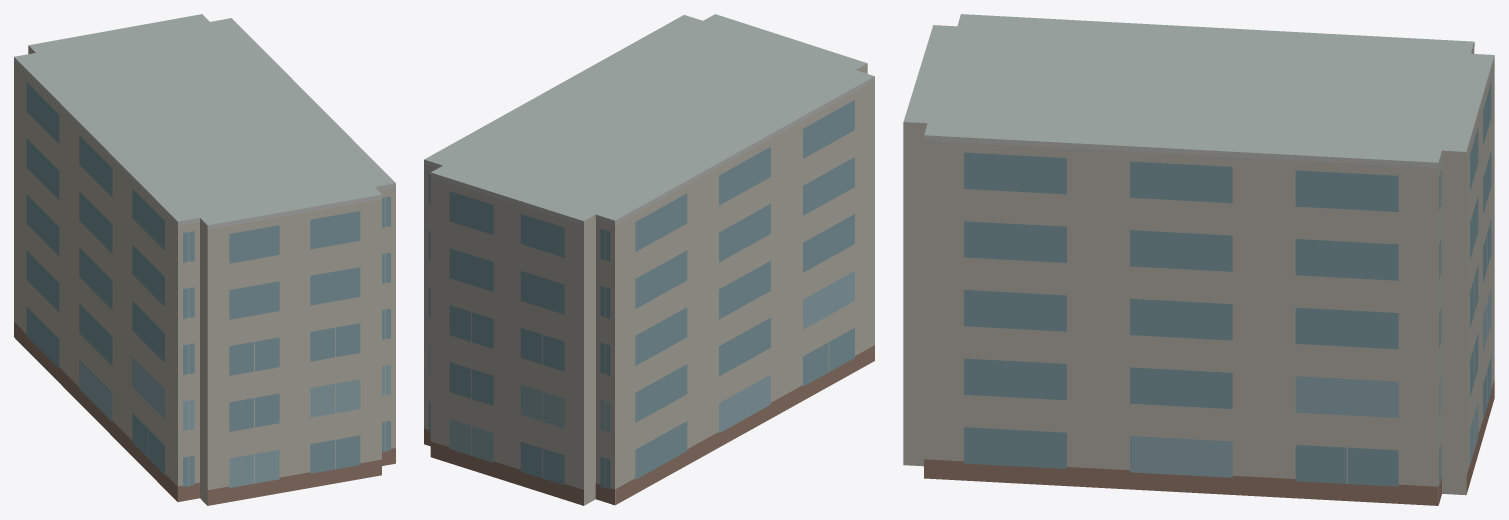
Rendered from survey-upis-32835646.glb.
3 renders of one model, left to right at view 1: azimuth 30°, elevation 25°; view 2: azimuth 150°, elevation 25°; view 3: azimuth 270°, elevation 25°, orthographic. The views are drawn at different scales.
Visible parts, largest first — view 1: survey-upis-32835646.tmp; view 2: survey-upis-32835646.tmp; view 3: survey-upis-32835646.tmp.
Part boxes in pixels (x1,y1,x2,y2): survey-upis-32835646.tmp: [14, 14, 395, 505]; survey-upis-32835646.tmp: [424, 14, 874, 505]; survey-upis-32835646.tmp: [903, 14, 1494, 505].
Size of the model in its own units: 14.55 by 15.65 by 24.44.
